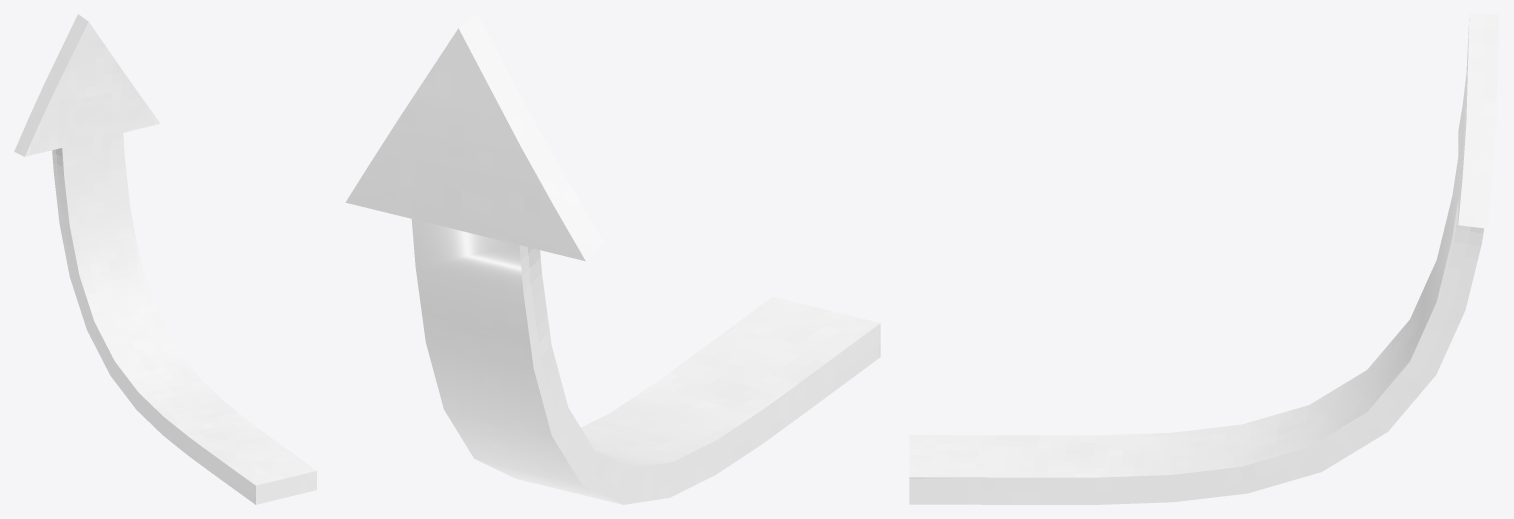
File: ArrowTurn.glb
3 views of the same model, side by side, from view 1: azimuth 30°, elevation 25°; view 2: azimuth 150°, elevation 25°; view 3: azimuth 270°, elevation 25° (orthographic). The views are drawn at different scales.
Visible parts, largest first — view 1: ArrowTurn; view 2: ArrowTurn; view 3: ArrowTurn.
Part boxes in pixels (x1=…): ArrowTurn: x1=14, y1=14, x2=316, y2=504; ArrowTurn: x1=345, y1=14, x2=880, y2=504; ArrowTurn: x1=909, y1=14, x2=1499, y2=504.
Bounding box in the file's own units: 0.099 × 0.2307 × 0.2626.
1 material, 1 textured.
